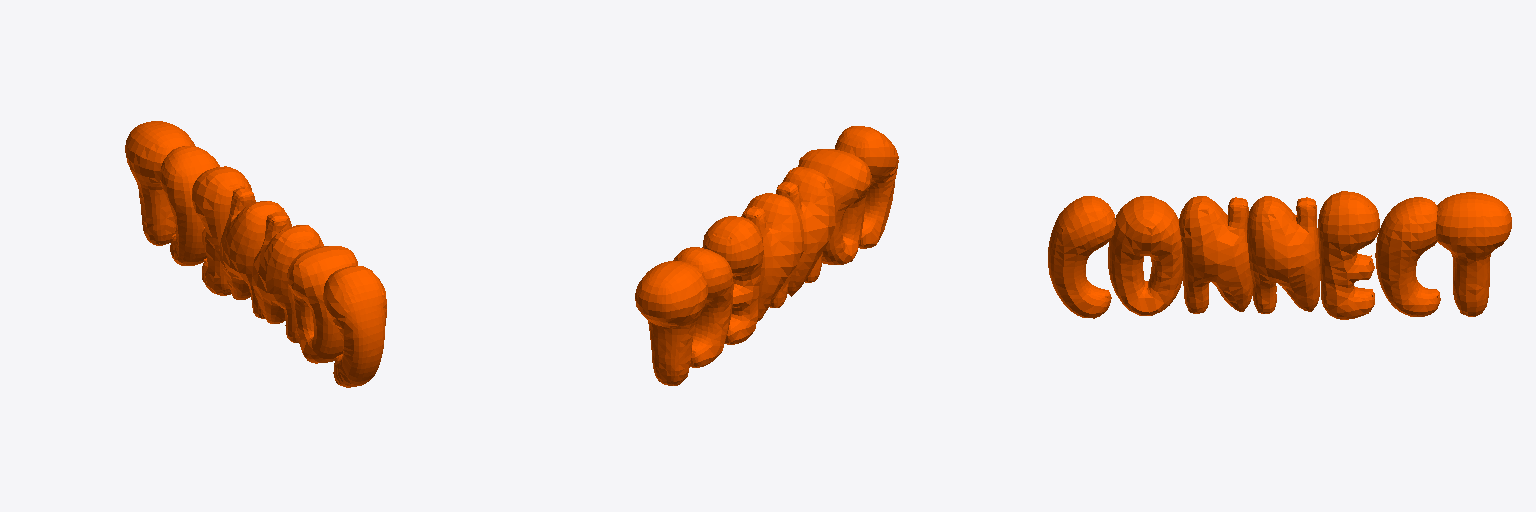
File: 09_connect.obj
3 views of the same model, side by side, from view 1: azimuth 30°, elevation 25°; view 2: azimuth 150°, elevation 25°; view 3: azimuth 270°, elevation 25° (orthographic).
Parts seen in each view (by area): view 1: _connect:connect; view 2: _connect:connect; view 3: _connect:connect.
Part boxes in pixels (bbox=[...]): _connect:connect: bbox=[125, 121, 386, 387]; _connect:connect: bbox=[635, 126, 898, 385]; _connect:connect: bbox=[1048, 191, 1511, 319].
Bounding box in the file's own units: 0.1447 × 0.257 × 0.8788.